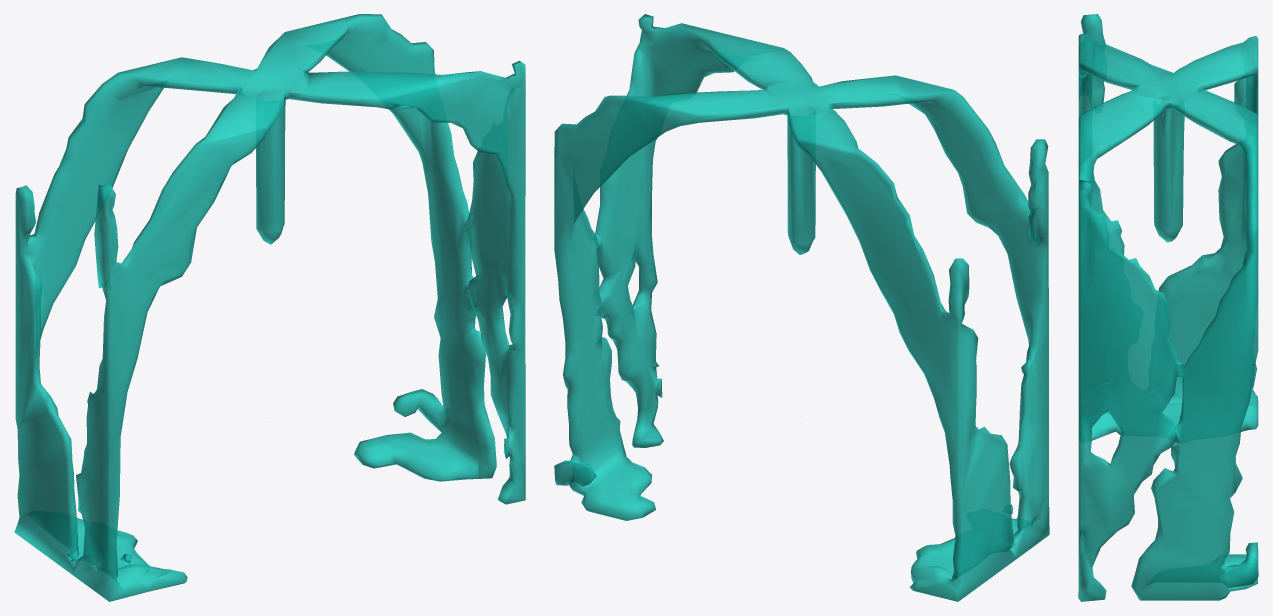
3 renders of one model, left to right at view 1: azimuth 30°, elevation 25°; view 2: azimuth 150°, elevation 25°; view 3: azimuth 270°, elevation 25°, orthographic. The views are drawn at different scales.
Parts seen in each view (by area): view 1: Liquid_Domain; view 2: Liquid_Domain; view 3: Liquid_Domain.
Boxes of the visible parts, bbox=[...] form: Liquid_Domain: bbox=[14, 14, 525, 601]; Liquid_Domain: bbox=[554, 14, 1049, 601]; Liquid_Domain: bbox=[1078, 14, 1258, 601].
Bounding box in the file's own units: 884 × 884 × 345.
